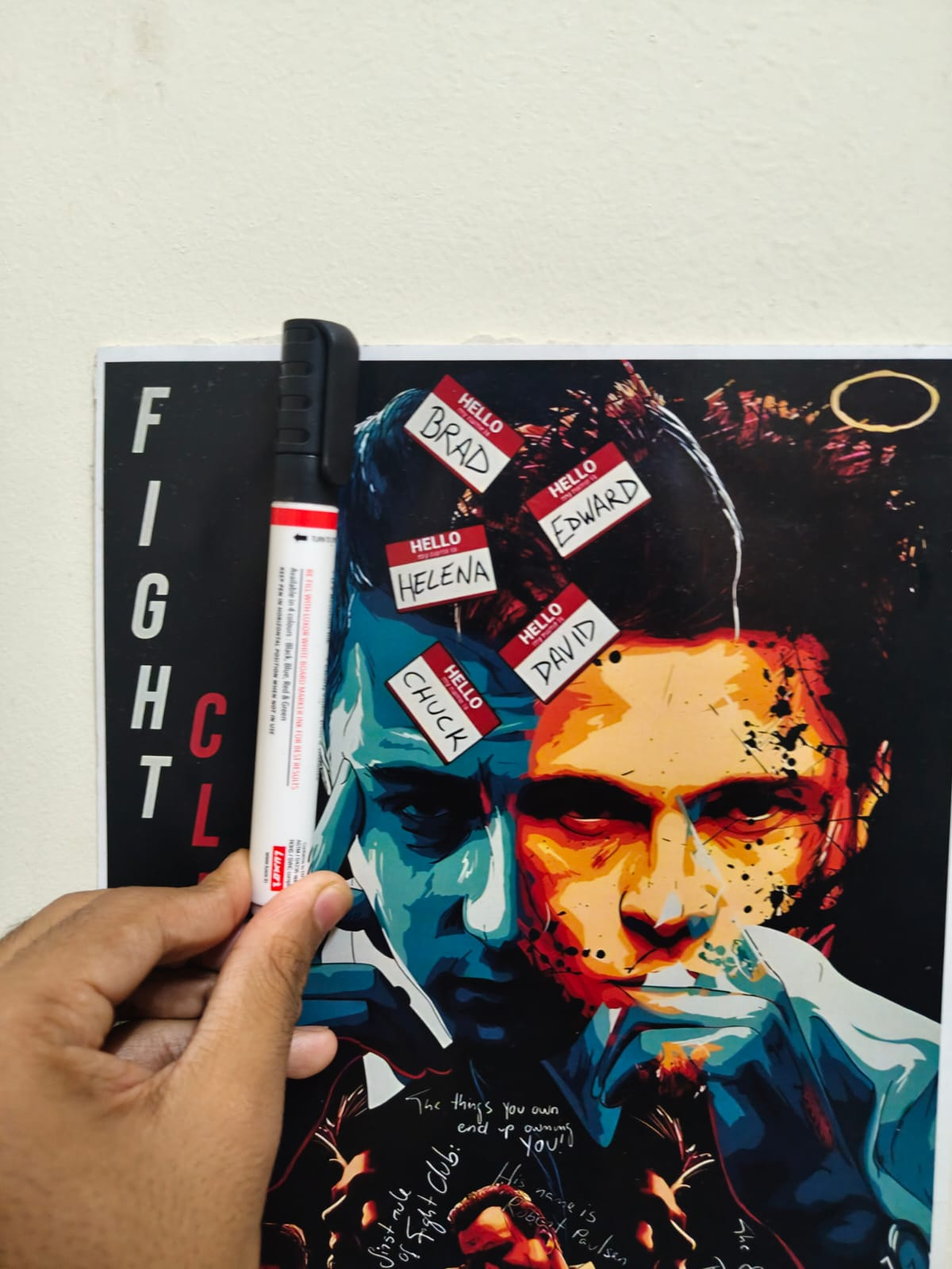case: (227, 288, 369, 925)
